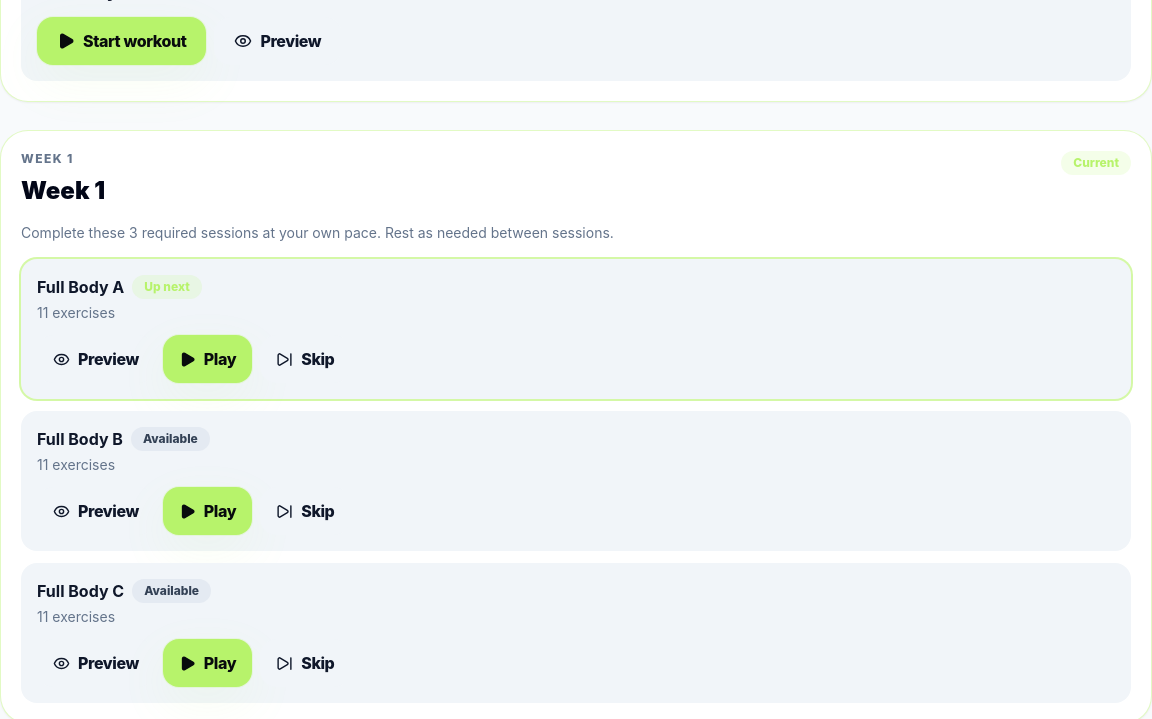
Test: Managed Program progression UX › persists Skip, distinguishes it from completion, and selects the next workout
This screenshot has width=1152, height=719.
(page scrolled)
Click the button "Skip" below "Up next": coordinates (305, 359) left=260, top=335, right=350, bottom=383
(page scrolled)
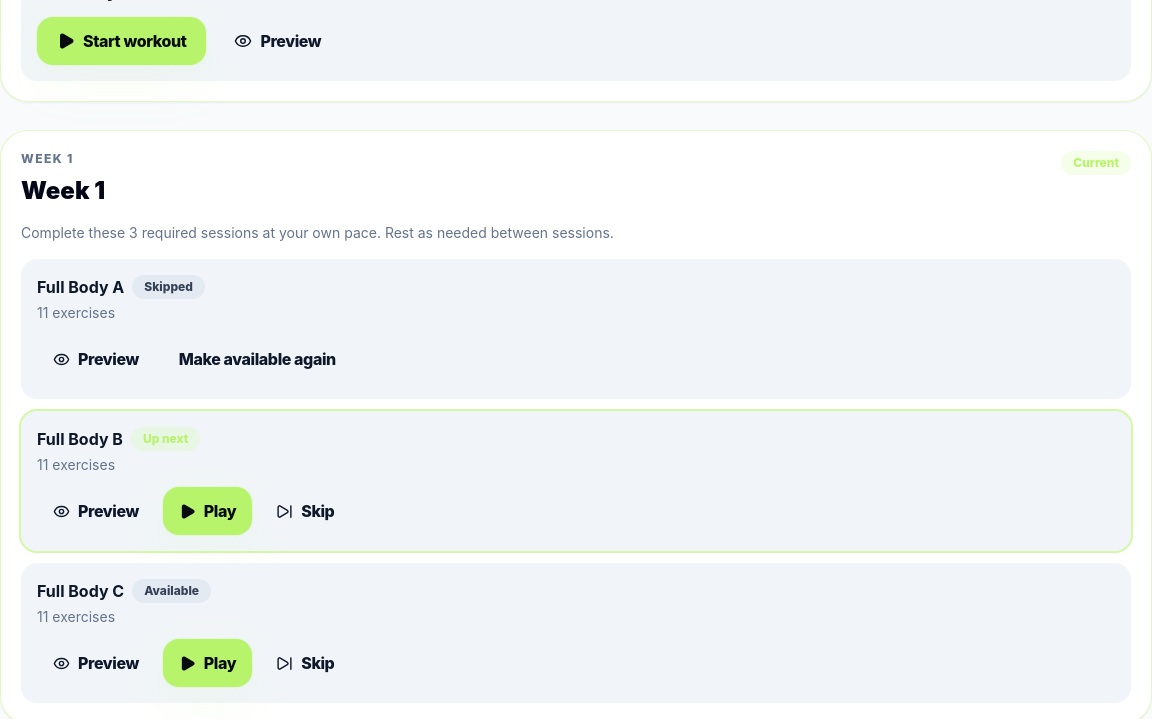
Expected: the text "Skipped" is shown, left=132, top=275, right=205, bottom=299
